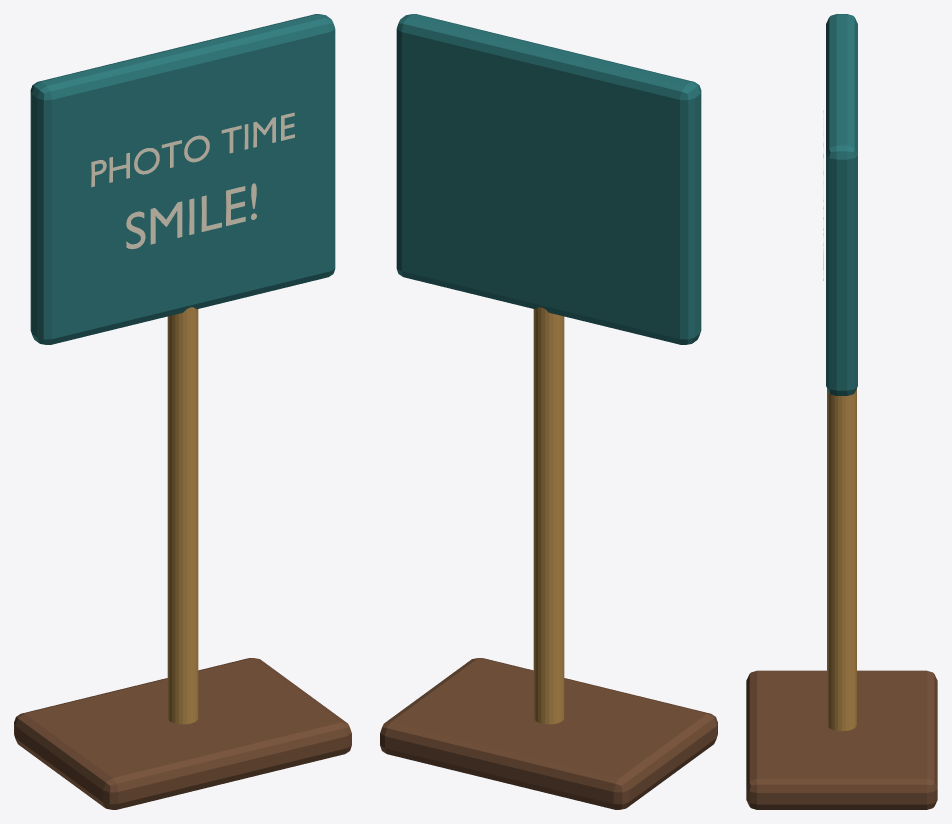
File: photo_display.glb
3 views of the same model, side by side, from view 1: azimuth 30°, elevation 25°; view 2: azimuth 150°, elevation 25°; view 3: azimuth 270°, elevation 25° (orthographic). The views are drawn at different scales.
Visible parts, largest first — view 1: photo_display; view 2: photo_display; view 3: photo_display.
Part boxes in pixels (x1,y1,x2,y2): photo_display: [14, 14, 351, 809]; photo_display: [380, 14, 717, 809]; photo_display: [746, 14, 937, 809].
Size of the model in its own units: 0.78 by 1.75 by 0.45.
